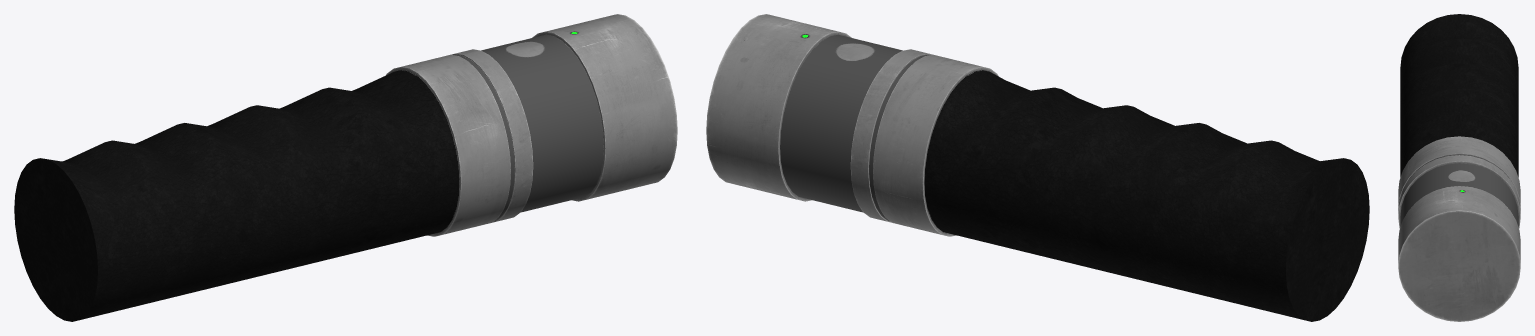
The model's file is grip_6_c_a.glb.
3 views of the same model, side by side, from view 1: azimuth 30°, elevation 25°; view 2: azimuth 150°, elevation 25°; view 3: azimuth 270°, elevation 25° (orthographic). The views are drawn at different scales.
Parts seen in each view (by area): view 1: grip_6_c_a_lod0; view 2: grip_6_c_a_lod0; view 3: grip_6_c_a_lod0.
Boxes of the visible parts, <box> form: grip_6_c_a_lod0: <box>14,14,677,321</box>; grip_6_c_a_lod0: <box>706,14,1369,321</box>; grip_6_c_a_lod0: <box>1398,14,1520,321</box>.
Size of what is drawn, in the model's own units: 0.1055 by 0.0275 by 0.0275.
Materials: 1 (1 with a texture image).
